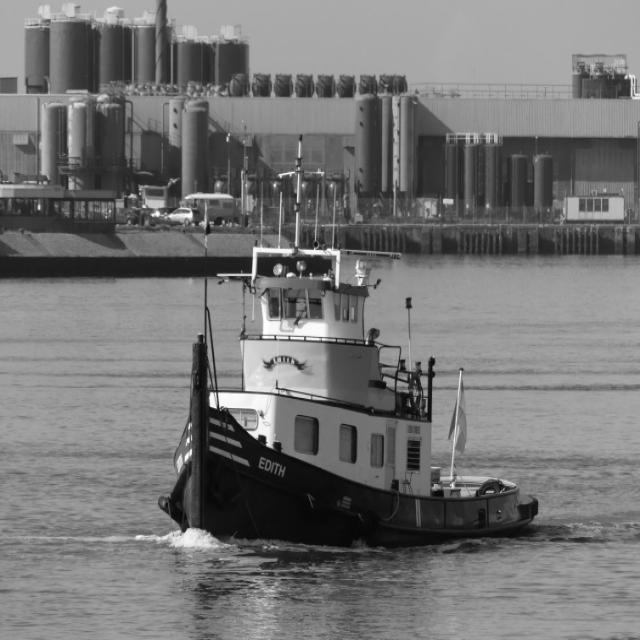tugboat: (155, 222, 544, 559)
